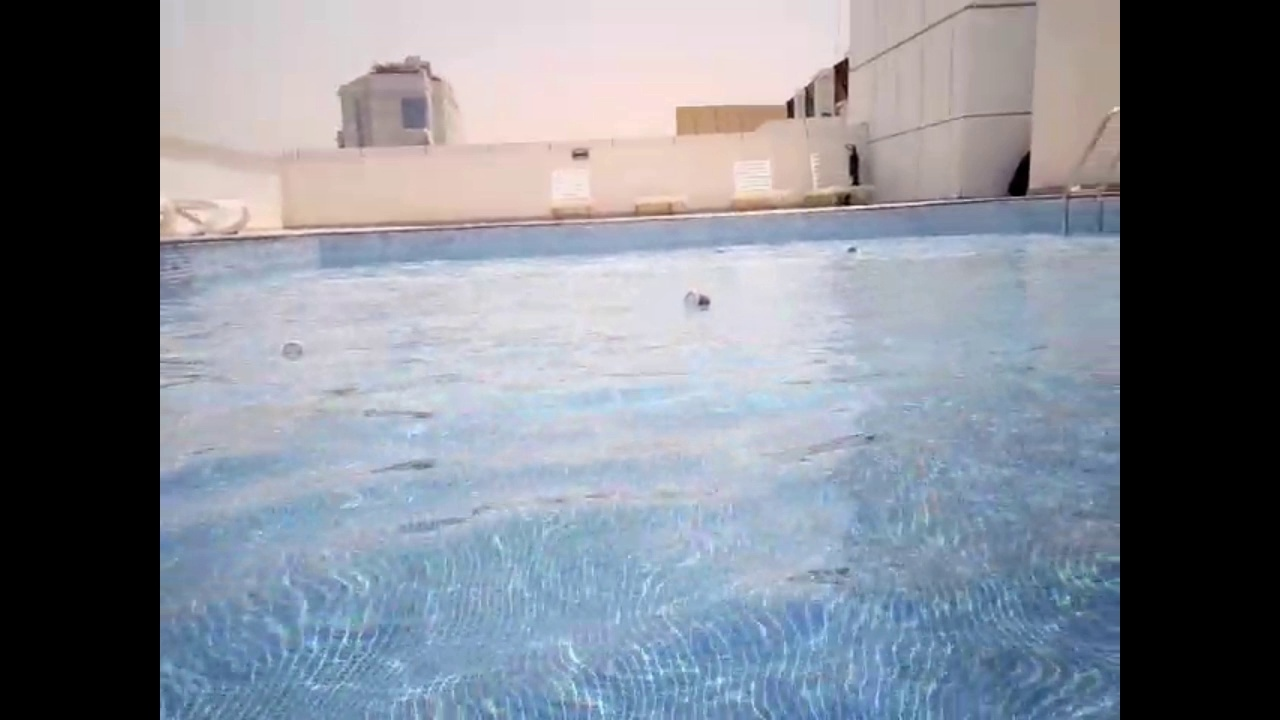debris: (679, 286, 713, 315), (275, 338, 306, 364), (841, 243, 862, 261), (713, 246, 730, 255)
